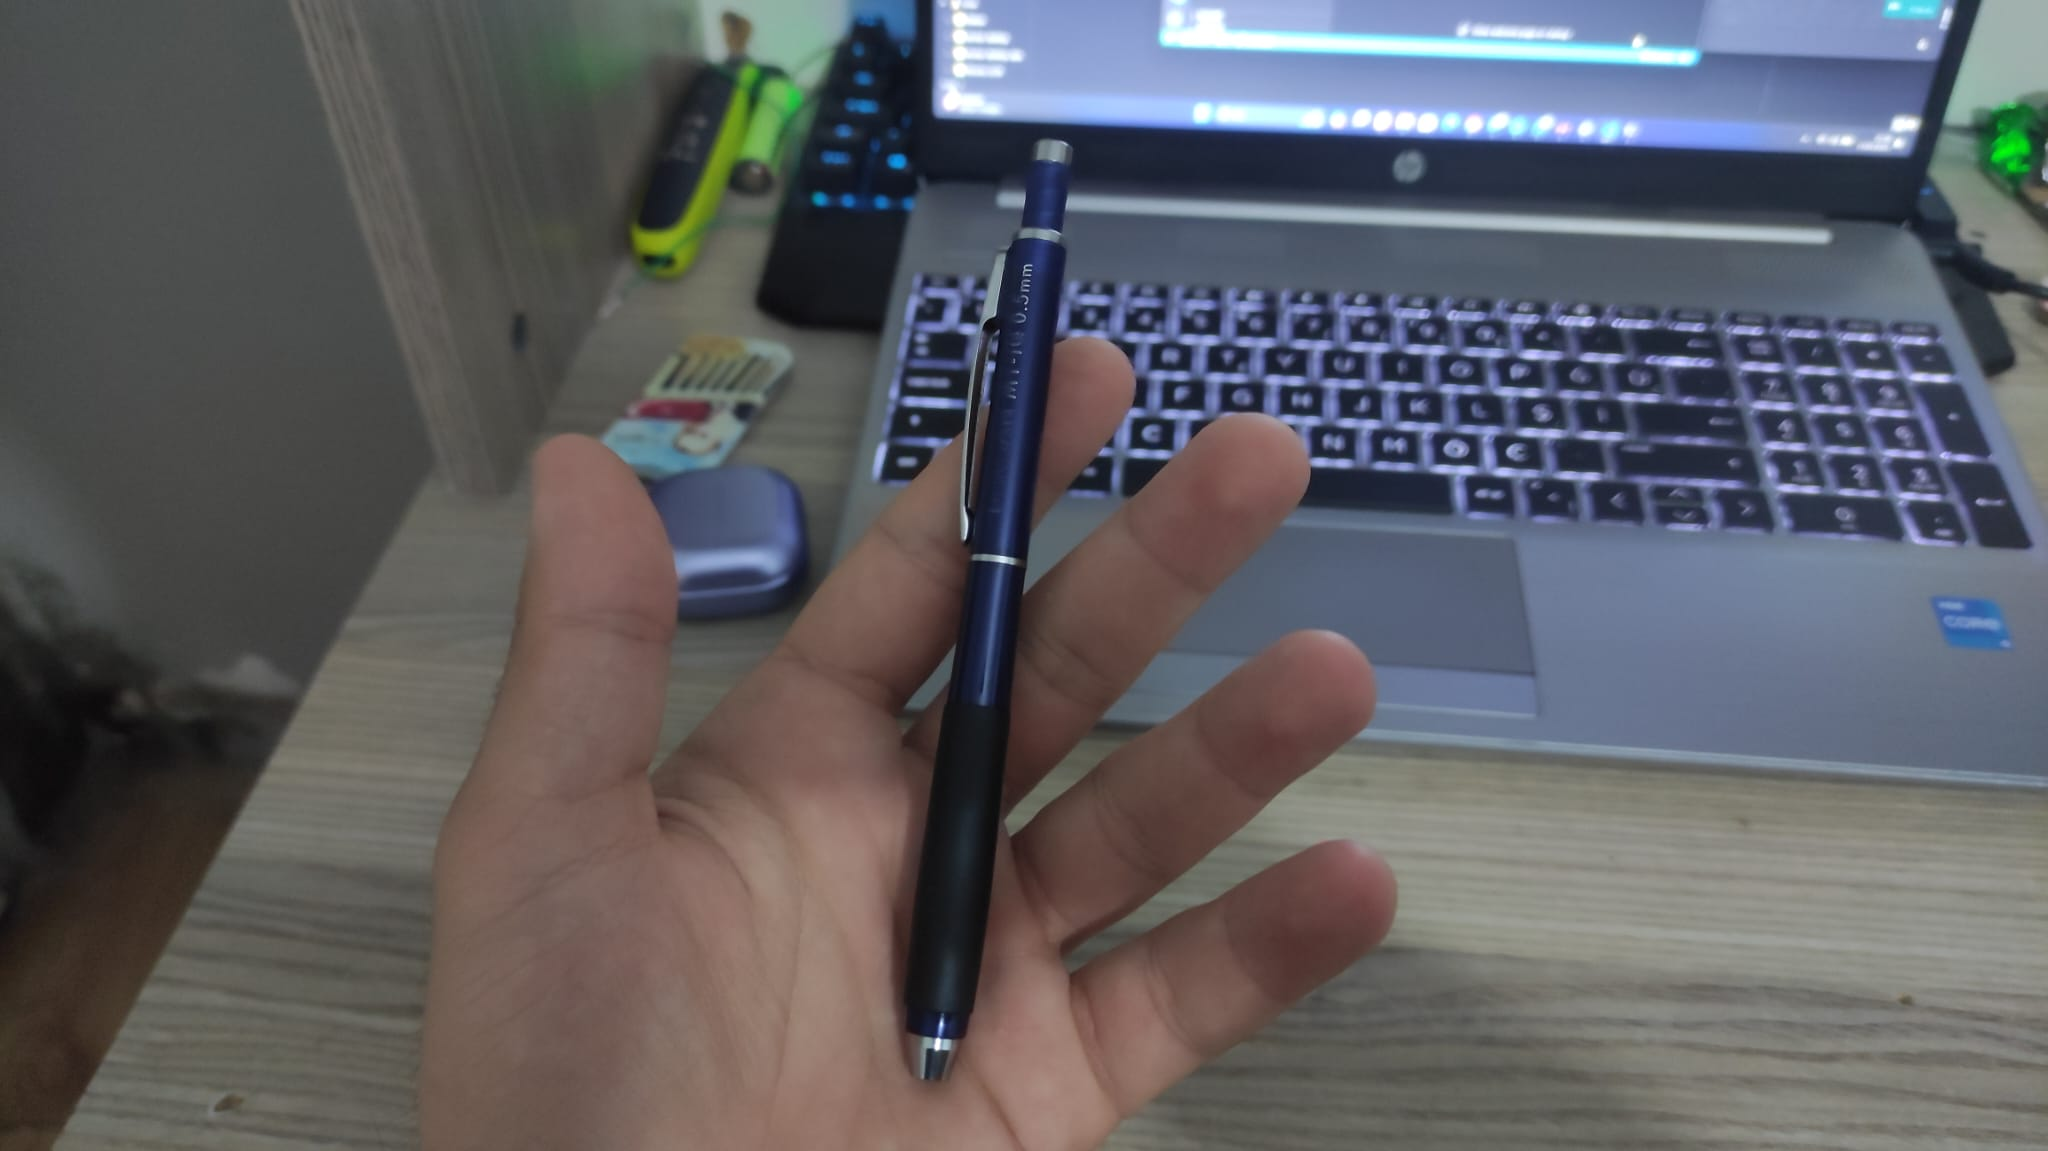kalem: (902, 136, 1077, 1083)
